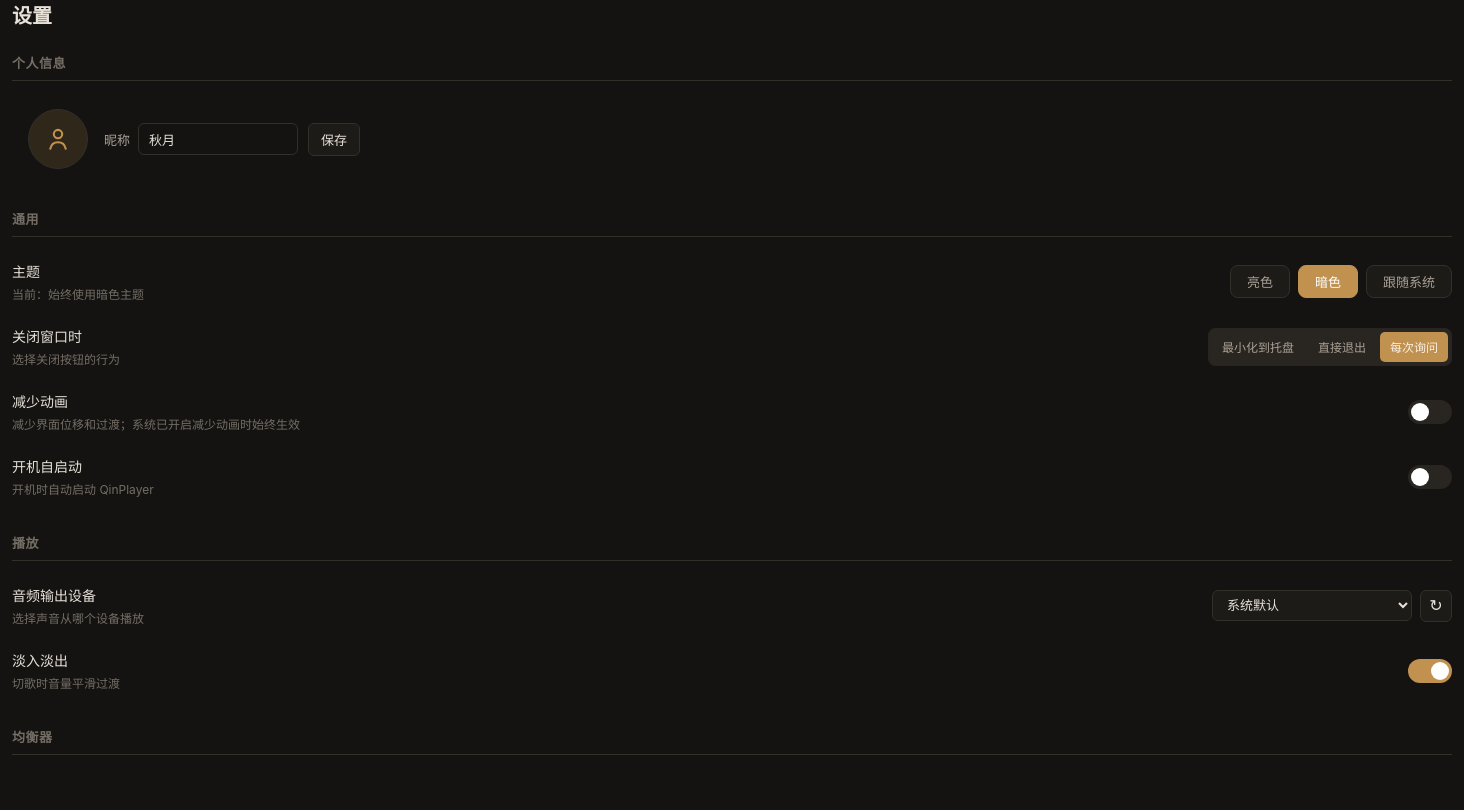
Scenario: Settings reduced motion › 保存失败时保留旧值并显示错误
Click the radio button labelled "最小化到托盘" at coordinates (1258, 346), box [1212, 332, 1304, 362]
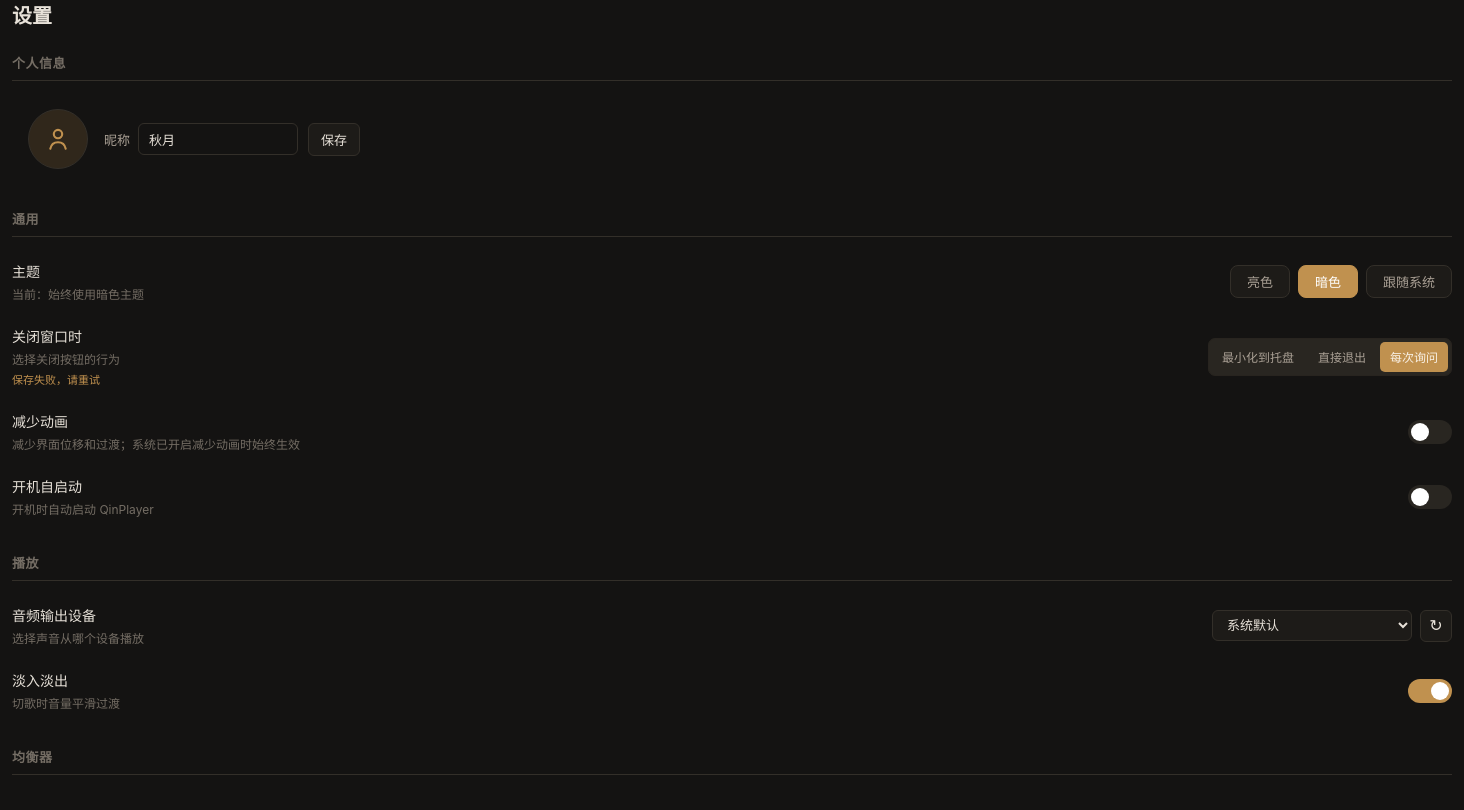
Expected: the text "保存失败，请重试" is shown, [12, 373, 100, 387]
